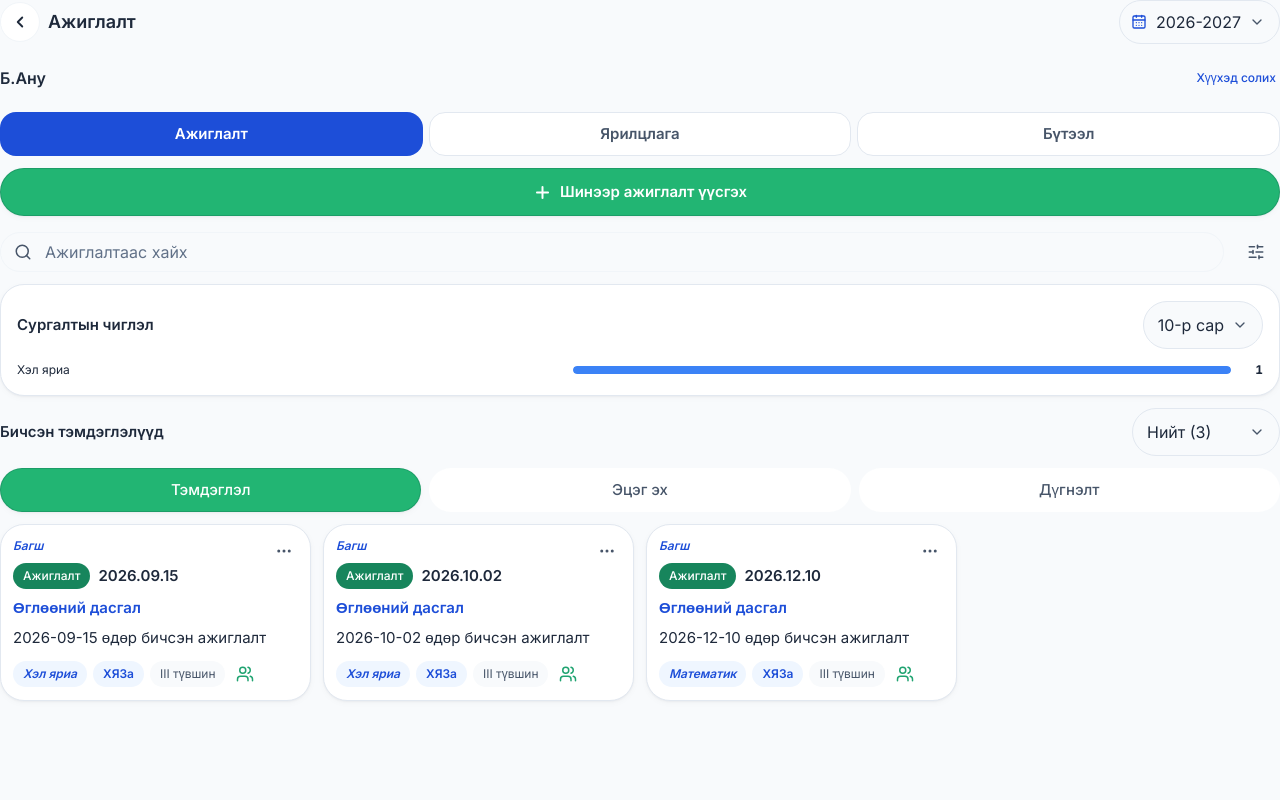
Scenario: the record hub › offers Солих without leaving the screen
Click the button "Хүүхэд солих". click: x=1236, y=78
box: [1192,56,1279,100]
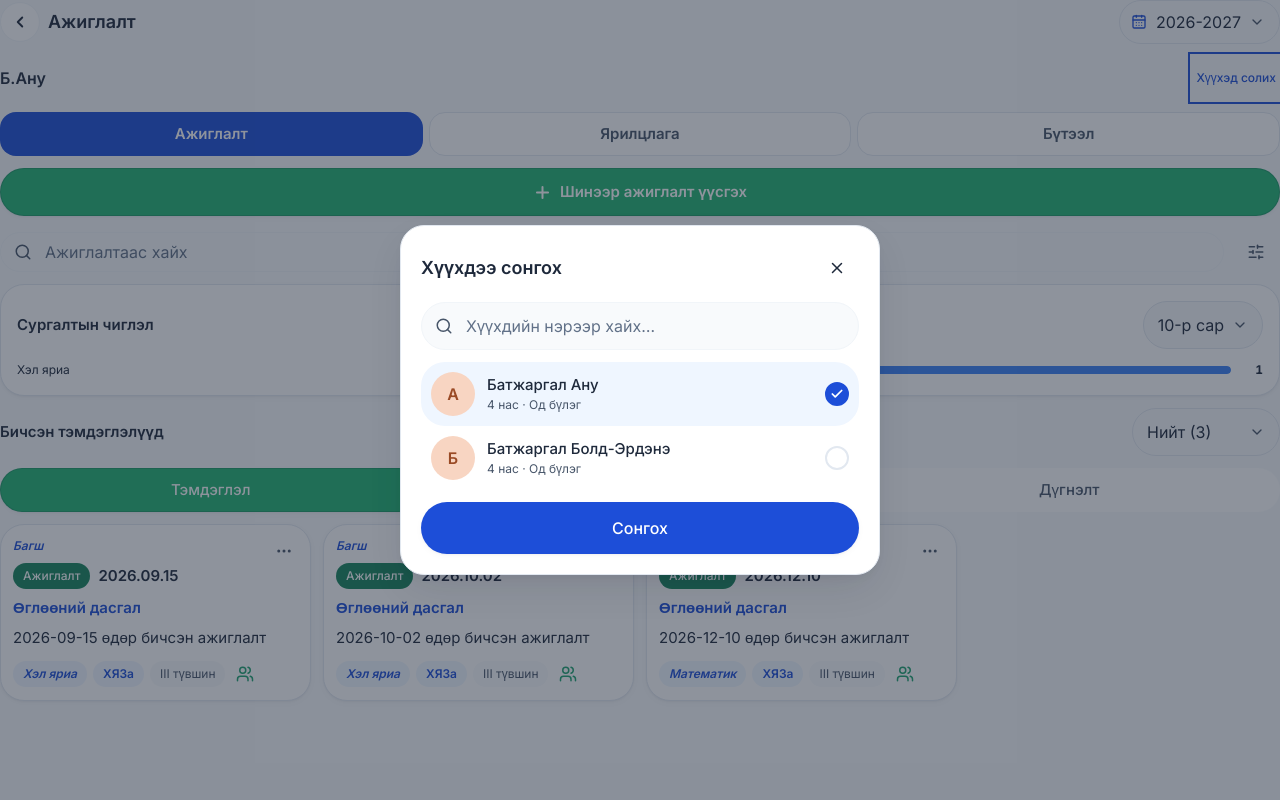
Now the radio button labelled "Б Батжаргал Болд-Эрдэнэ 4 нас · Од бүлэг" is shown, box [421,426,859,490]
